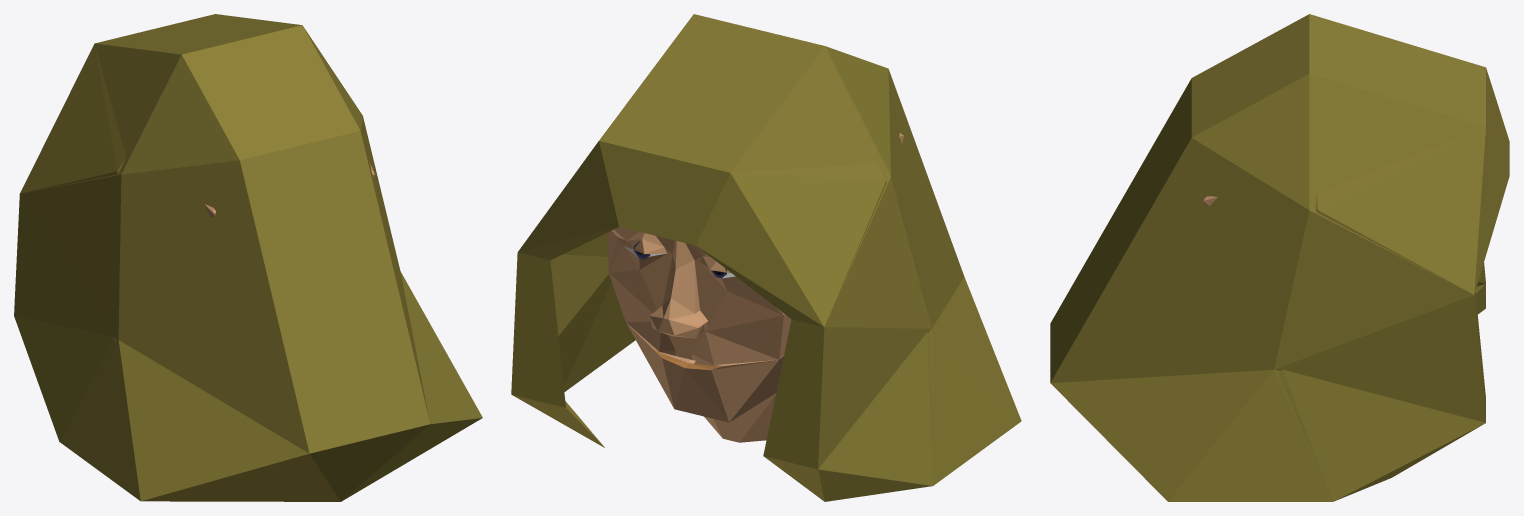
Rendered from npc_chat_tower_advisor_4_0.obj.
3 views of the same model, side by side, from view 1: azimuth 30°, elevation 25°; view 2: azimuth 150°, elevation 25°; view 3: azimuth 270°, elevation 25° (orthographic). The views are drawn at different scales.
Size of the model in its own units: 1.06 by 1.16 by 1.22.
